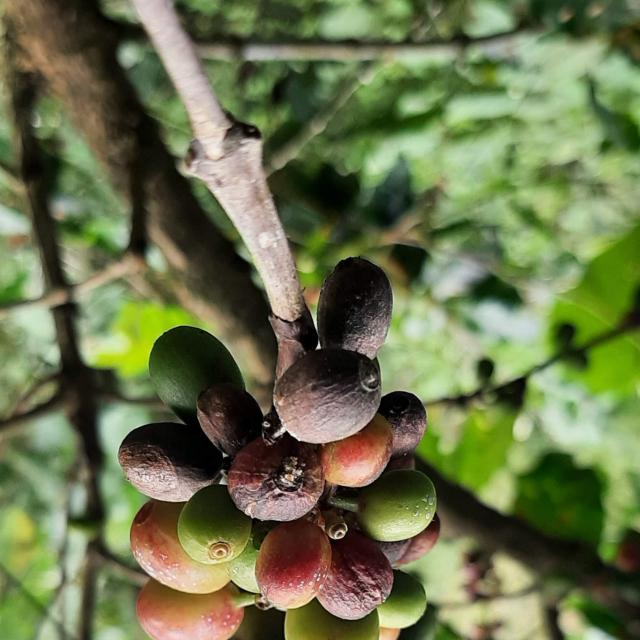green: (149, 326, 245, 425), (340, 470, 437, 542), (177, 485, 252, 565), (285, 600, 380, 640), (377, 571, 427, 630), (225, 541, 260, 594)
red: (274, 349, 382, 444), (227, 434, 325, 522), (118, 423, 223, 503), (317, 257, 393, 359), (317, 531, 394, 621), (196, 384, 263, 457), (378, 392, 428, 458), (394, 515, 441, 568)
yellow: (130, 500, 230, 595), (136, 580, 250, 640)
